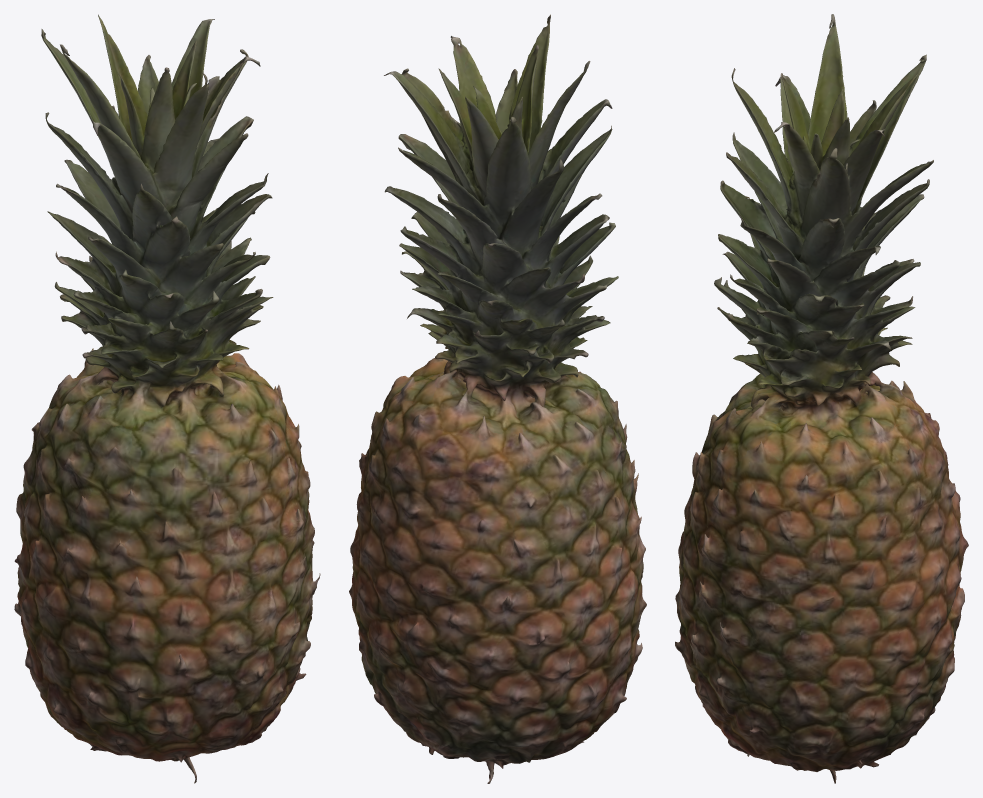
File: pineapple.glb
The picture shows the model from 3 angles, left to right: view 1: azimuth 30°, elevation 25°; view 2: azimuth 150°, elevation 25°; view 3: azimuth 270°, elevation 25°; orthographic projection. The views are drawn at different scales.
Size of the model in its own units: 11.97 by 32.75 by 12.45.
Materials: 1 (1 with a texture image).
